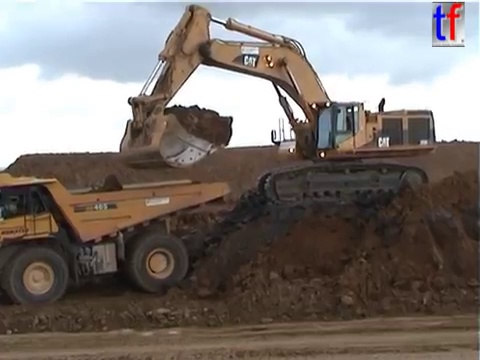excavator: (115, 1, 439, 209)
truck: (1, 170, 232, 308)
